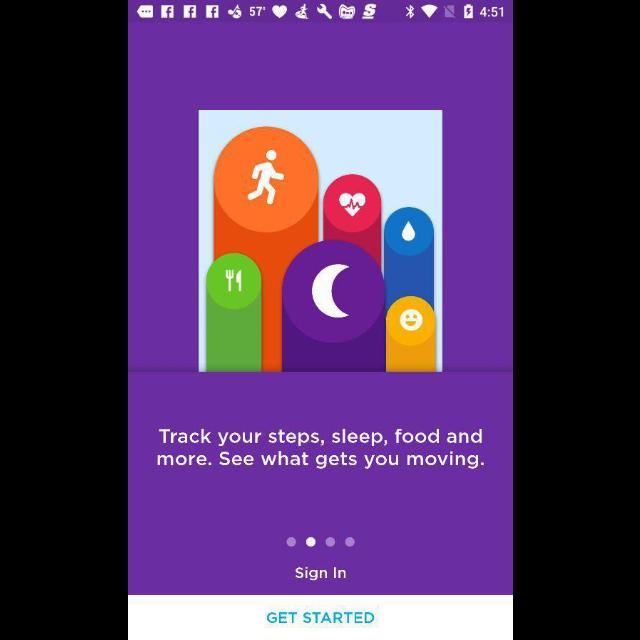image: (198, 110, 442, 372)
pageindicator: (285, 536, 355, 548)
text: (156, 428, 484, 469), (294, 567, 346, 581)
textbutton: (128, 596, 512, 640)
uppertaskbar: (128, 1, 512, 23)
